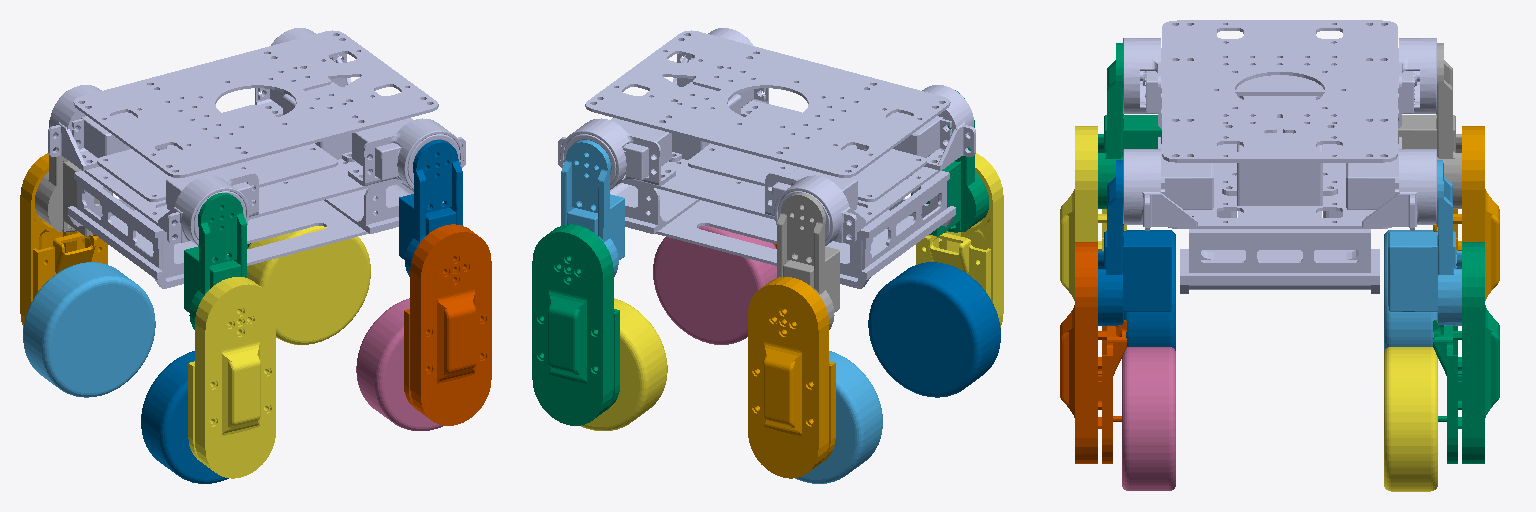
robot.urdf — qwe_dog:
<?xml version="1.0" encoding="utf-8"?>
<robot name="qwe_dog">
  <link name="base_link">
    <inertial>
      <origin xyz="0.03396 0.00484 2.198E-05" rpy="0 0 0" />
      <mass value="0.9" />
      <inertia ixx="0.001371" ixy="0" ixz="0" iyy="0.000667" iyz="0" izz="0.000830" />
    </inertial>
    <visual>
      <origin xyz="0 0 0" rpy="0 0 0" />
      <geometry><mesh filename="package://qwe.SLDASM/meshes/base_link.STL" /></geometry>
      <material name=""><color rgba="0.79 0.81 0.93 1" /></material>
    </visual>
    <collision>
      <origin xyz="0 0 0" rpy="0 0 0" />
      <geometry><mesh filename="package://qwe.SLDASM/meshes/base_link.STL" /></geometry>
    </collision>
  </link>

  <!-- ==================== FRONT LEFT ==================== -->
  <link name="thigh_front_left">
    <inertial><origin xyz="-0.006 -1.9E-06 -0.046" rpy="0 0 0" /><mass value="0.085" /><inertia ixx="4.12E-05" ixy="0" ixz="4.12E-06" iyy="4.12E-05" iyz="0" izz="1.44E-05" /></inertial>
    <visual><origin xyz="0 0 0" rpy="0 0 0" /><geometry><mesh filename="package://qwe.SLDASM/meshes/big_qian_zuo.STL" /></geometry></visual>
    <collision><origin xyz="0 0 0" rpy="0 0 0" /><geometry><mesh filename="package://qwe.SLDASM/meshes/big_qian_zuo.STL" /></geometry></collision>
  </link>
  <joint name="thigh_front_left_joint" type="revolute">
    <origin xyz="0.0762 0.0903 -0.0234" rpy="0 0 -1.5708" />
    <parent link="base_link" /><child link="thigh_front_left" /><axis xyz="-1 0 0" />
    <limit lower="-1.4" upper="1.4" effort="1.27" velocity="6.3" /><dynamics friction="1.0" damping="0.5" />
  </joint>

  <link name="shank_front_left">
    <inertial><origin xyz="-0.007 -0.041 2.4E-06" rpy="0 0 0" /><mass value="0.12" /><inertia ixx="0.000136" ixy="0" ixz="0" iyy="2.47E-05" iyz="0" izz="0.000114" /></inertial>
    <visual><origin xyz="0 0 0" rpy="0 0 0" /><geometry><mesh filename="package://qwe.SLDASM/meshes/small_qian_zuo.STL" /></geometry></visual>
    <collision><origin xyz="0 0 0" rpy="0 0 0" /><geometry><mesh filename="package://qwe.SLDASM/meshes/small_qian_zuo.STL" /></geometry></collision>
  </link>
  <joint name="shank_front_left_joint" type="revolute">
    <origin xyz="-0.023 0 -0.0615" rpy="0 0 0" />
    <parent link="thigh_front_left" /><child link="shank_front_left" /><axis xyz="-1 0 0" />
    <limit lower="-1.57" upper="1.57" effort="1.27" velocity="6.3" /><dynamics friction="1.0" damping="0.5" />
  </joint>

  <link name="wheel_front_left">
    <inertial><origin xyz="-0.015 0 0" rpy="0 0 0" /><mass value="0.14911" /><inertia ixx="0.000118" ixy="0" ixz="0" iyy="7E-05" iyz="0" izz="7E-05" /></inertial>
    <visual><origin xyz="0 0 0" rpy="0 0 0" /><geometry><mesh filename="package://qwe.SLDASM/meshes/last_qian_zuo.STL" /></geometry></visual>
    <collision><origin xyz="0 0 0" rpy="0 0 0" /><geometry><mesh filename="package://qwe.SLDASM/meshes/last_qian_zuo.STL" /></geometry></collision>
  </link>
  <joint name="wheel_front_left_joint" type="continuous">
    <origin xyz="0.056 0 -0.08" rpy="1.42873540434818 0 0" />
    <parent link="shank_front_left" /><child link="wheel_front_left" /><axis xyz="-1 0 0" />
    <limit effort="1.27" velocity="6.3" /><dynamics friction="5.0" damping="0.5" />
  </joint>

  <!-- ==================== FRONT RIGHT ==================== -->
  <link name="thigh_front_right">
    <inertial><origin xyz="-0.006 -1.9E-06 -0.046" rpy="0 0 0" /><mass value="0.085" /><inertia ixx="4.12E-05" ixy="0" ixz="4.12E-06" iyy="4.12E-05" iyz="0" izz="1.44E-05" /></inertial>
    <visual><origin xyz="0 0 0" rpy="0 0 0" /><geometry><mesh filename="package://qwe.SLDASM/meshes/big_qian_you.STL" /></geometry></visual>
    <collision><origin xyz="0 0 0" rpy="0 0 0" /><geometry><mesh filename="package://qwe.SLDASM/meshes/big_qian_you.STL" /></geometry></collision>
  </link>
  <joint name="thigh_front_right_joint" type="revolute">
    <origin xyz="0.0762 -0.0903 -0.0234" rpy="0 0 -1.5708" />
    <parent link="base_link" /><child link="thigh_front_right" /><axis xyz="-1 0 0" />
    <limit lower="-1.4" upper="1.4" effort="1.27" velocity="6.3" /><dynamics friction="1.0" damping="0.5" />
  </joint>

  <link name="shank_front_right">
    <inertial><origin xyz="-0.007 -2.2E-06 -0.041" rpy="0 0 0" /><mass value="0.12" /><inertia ixx="0.000136" ixy="0" ixz="2.3E-06" iyy="0.000114" iyz="0" izz="2.47E-05" /></inertial>
    <visual><origin xyz="0 0 0" rpy="0 0 0" /><geometry><mesh filename="package://qwe.SLDASM/meshes/small_qian_you.STL" /></geometry></visual>
    <collision><origin xyz="0 0 0" rpy="0 0 0" /><geometry><mesh filename="package://qwe.SLDASM/meshes/small_qian_you.STL" /></geometry></collision>
  </link>
  <joint name="shank_front_right_joint" type="revolute">
    <origin xyz="0.023 0 -0.0615" rpy="0 0 0" />
    <parent link="thigh_front_right" /><child link="shank_front_right" /><axis xyz="-1 0 0" />
    <limit lower="-1.57" upper="1.57" effort="1.27" velocity="6.3" /><dynamics friction="1.0" damping="0.5" />
  </joint>

  <link name="wheel_front_right">
    <inertial><origin xyz="-0.015 0 0" rpy="0 0 0" /><mass value="0.1491" /><inertia ixx="0.000118" ixy="0" ixz="0" iyy="7E-05" iyz="0" izz="7E-05" /></inertial>
    <visual><origin xyz="0 0 0" rpy="0 0 0" /><geometry><mesh filename="package://qwe.SLDASM/meshes/last_qian_you.STL" /></geometry></visual>
    <collision><origin xyz="0 0 0" rpy="0 0 0" /><geometry><mesh filename="package://qwe.SLDASM/meshes/last_qian_you.STL" /></geometry></collision>
  </link>
  <joint name="wheel_front_right_joint" type="continuous">
    <origin xyz="-0.056 0 -0.08" rpy="1.79798018624836 0 3.14159265358977" />
    <parent link="shank_front_right" /><child link="wheel_front_right" /><axis xyz="-1 0 0" />
    <limit effort="1.27" velocity="6.3" /><dynamics friction="5.0" damping="0.5" />
  </joint>

  <!-- ==================== REAR LEFT ==================== -->
  <link name="thigh_rear_left">
    <inertial><origin xyz="-0.006 -1.9E-06 -0.046" rpy="0 0 0" /><mass value="0.085" /><inertia ixx="4.12E-05" ixy="0" ixz="4.12E-06" iyy="4.12E-05" iyz="0" izz="1.44E-05" /></inertial>
    <visual><origin xyz="0 0 0" rpy="0 0 0" /><geometry><mesh filename="package://qwe.SLDASM/meshes/big_hou_zuo.STL" /></geometry></visual>
    <collision><origin xyz="0 0 0" rpy="0 0 0" /><geometry><mesh filename="package://qwe.SLDASM/meshes/big_hou_zuo.STL" /></geometry></collision>
  </link>
  <joint name="thigh_rear_left_joint" type="revolute">
    <origin xyz="-0.0762 0.0903 -0.0234" rpy="0 0 -1.5708" />
    <parent link="base_link" /><child link="thigh_rear_left" /><axis xyz="-1 0 0" />
    <limit lower="-1.4" upper="1.4" effort="1.27" velocity="6.3" /><dynamics friction="1.0" damping="0.5" />
  </joint>

  <link name="shank_rear_left">
    <inertial><origin xyz="-0.007 -2.3E-06 -0.041" rpy="0 0 0" /><mass value="0.12" /><inertia ixx="0.000136" ixy="0" ixz="2.3E-06" iyy="0.000114" iyz="0" izz="2.47E-05" /></inertial>
    <visual><origin xyz="0 0 0" rpy="0 0 0" /><geometry><mesh filename="package://qwe.SLDASM/meshes/small_hou_zuo.STL" /></geometry></visual>
    <collision><origin xyz="0 0 0" rpy="0 0 0" /><geometry><mesh filename="package://qwe.SLDASM/meshes/small_hou_zuo.STL" /></geometry></collision>
  </link>
  <joint name="shank_rear_left_joint" type="revolute">
    <origin xyz="-0.023 0 -0.0615" rpy="0 0 0" />
    <parent link="thigh_rear_left" /><child link="shank_rear_left" /><axis xyz="-1 0 0" />
    <limit lower="-1.57" upper="1.57" effort="1.27" velocity="6.3" /><dynamics friction="1.0" damping="0.5" />
  </joint>

  <link name="wheel_rear_left">
    <inertial><origin xyz="-0.015 0 0" rpy="0 0 0" /><mass value="0.1491" /><inertia ixx="0.000118" ixy="0" ixz="0" iyy="7E-05" iyz="0" izz="7E-05" /></inertial>
    <visual><origin xyz="0 0 0" rpy="0 0 0" /><geometry><mesh filename="package://qwe.SLDASM/meshes/last_hou_zuo.STL" /></geometry></visual>
    <collision><origin xyz="0 0 0" rpy="0 0 0" /><geometry><mesh filename="package://qwe.SLDASM/meshes/last_hou_zuo.STL" /></geometry></collision>
  </link>
  <joint name="wheel_rear_left_joint" type="continuous">
    <origin xyz="0.056 0 -0.08" rpy="1.430547240631 0 0" />
    <parent link="shank_rear_left" /><child link="wheel_rear_left" /><axis xyz="-1 0 0" />
    <limit effort="1.27" velocity="6.3" /><dynamics friction="5.0" damping="0.5" />
  </joint>

  <!-- ==================== REAR RIGHT ==================== -->
  <link name="thigh_rear_right">
    <inertial><origin xyz="-0.006 -1.9E-06 -0.046" rpy="0 0 0" /><mass value="0.085" /><inertia ixx="4.12E-05" ixy="0" ixz="4.12E-06" iyy="4.12E-05" iyz="0" izz="1.44E-05" /></inertial>
    <visual><origin xyz="0 0 0" rpy="0 0 0" /><geometry><mesh filename="package://qwe.SLDASM/meshes/big_hou_you.STL" /></geometry></visual>
    <collision><origin xyz="0 0 0" rpy="0 0 0" /><geometry><mesh filename="package://qwe.SLDASM/meshes/big_hou_you.STL" /></geometry></collision>
  </link>
  <joint name="thigh_rear_right_joint" type="revolute">
    <origin xyz="-0.0762 -0.0903 -0.0234" rpy="0 0 -1.5708" />
    <parent link="base_link" /><child link="thigh_rear_right" /><axis xyz="-1 0 0" />
    <limit lower="-1.4" upper="1.4" effort="1.27" velocity="6.3" /><dynamics friction="1.0" damping="0.5" />
  </joint>

  <link name="shank_rear_right">
    <inertial><origin xyz="-0.007 -0.041 -9.7E-07" rpy="0 0 0" /><mass value="0.12" /><inertia ixx="0.000139" ixy="2.3E-06" ixz="0" iyy="2.51E-05" iyz="0" izz="0.000116" /></inertial>
    <visual><origin xyz="0 0 0" rpy="0 0 0" /><geometry><mesh filename="package://qwe.SLDASM/meshes/small_hou_you.STL" /></geometry></visual>
    <collision><origin xyz="0 0 0" rpy="0 0 0" /><geometry><mesh filename="package://qwe.SLDASM/meshes/small_hou_you.STL" /></geometry></collision>
  </link>
  <joint name="shank_rear_right_joint" type="revolute">
    <origin xyz="0.023 0 -0.0615" rpy="0 0 0" />
    <parent link="thigh_rear_right" /><child link="shank_rear_right" /><axis xyz="-1 0 0" />
    <limit lower="-1.57" upper="1.57" effort="1.27" velocity="6.3" /><dynamics friction="1.0" damping="0.5" />
  </joint>

  <link name="wheel_rear_right">
    <inertial><origin xyz="-0.015 0 0" rpy="0 0 0" /><mass value="0.1491" /><inertia ixx="0.000118" ixy="0" ixz="0" iyy="7E-05" iyz="0" izz="7E-05" /></inertial>
    <visual><origin xyz="0 0 0" rpy="0 0 0" /><geometry><mesh filename="package://qwe.SLDASM/meshes/last_hou_you.STL" /></geometry></visual>
    <collision><origin xyz="0 0 0" rpy="0 0 0" /><geometry><mesh filename="package://qwe.SLDASM/meshes/last_hou_you.STL" /></geometry></collision>
  </link>
  <joint name="wheel_rear_right_joint" type="continuous">
    <origin xyz="-0.056 0 -0.08" rpy="1.94377525314493 0 3.14159265358977" />
    <parent link="shank_rear_right" /><child link="wheel_rear_right" /><axis xyz="-1 0 0" />
    <limit effort="1.27" velocity="6.3" /><dynamics friction="5.0" damping="0.5" />
  </joint>
</robot>

--- What the picture shows (computed from the rendered views, not written in the file) ---
3 views of the same robot in one strip: view 1: azimuth 30°, elevation 25°; view 2: azimuth 150°, elevation 25°; view 3: azimuth 270°, elevation 25° (orthographic).
Robot: qwe_dog — 13 links, 12 joints (8 revolute, 4 continuous); root link base_link; default pose: all joints at 0.
Links seen in each view (by area): view 1: base_link, shank_front_right, shank_rear_right, wheel_rear_left, wheel_front_left, shank_rear_left, thigh_front_right, thigh_rear_right, wheel_front_right, wheel_rear_right, thigh_rear_left; view 2: base_link, shank_front_left, shank_rear_left, wheel_rear_right, wheel_front_right, shank_rear_right, thigh_front_left, thigh_rear_left, wheel_front_left, wheel_rear_left, thigh_rear_right; view 3: base_link, shank_front_left, shank_front_right, wheel_front_left, wheel_front_right, thigh_front_right, thigh_front_left, shank_rear_left, shank_rear_right, thigh_rear_left, thigh_rear_right, wheel_rear_left (+1 smaller).
Link boxes in pixels (x1,y1,x2,y2): base_link: [48, 28, 465, 288]; shank_front_right: [404, 224, 491, 425]; shank_rear_right: [188, 277, 275, 478]; wheel_rear_left: [23, 262, 155, 397]; wheel_front_left: [247, 226, 370, 344]; shank_rear_left: [20, 153, 107, 327]; thigh_front_right: [399, 140, 462, 276]; thigh_rear_right: [184, 193, 246, 329]; wheel_front_right: [356, 298, 442, 430]; wheel_rear_right: [141, 351, 228, 483]; thigh_rear_left: [35, 90, 112, 236]; base_link: [558, 28, 975, 288]; shank_front_left: [532, 224, 619, 425]; shank_rear_left: [748, 277, 835, 478]; wheel_rear_right: [868, 262, 1000, 397]; wheel_front_right: [653, 226, 776, 344]; shank_rear_right: [916, 153, 1003, 327]; thigh_front_left: [561, 140, 624, 276]; thigh_rear_left: [777, 193, 839, 329]; wheel_front_left: [581, 298, 667, 430]; wheel_rear_left: [795, 351, 882, 483]; thigh_rear_right: [911, 90, 988, 236]; base_link: [1123, 20, 1436, 293]; shank_front_left: [1433, 242, 1499, 463]; shank_front_right: [1060, 242, 1126, 463]; wheel_front_left: [1384, 347, 1437, 491]; wheel_front_right: [1122, 347, 1175, 490]; thigh_front_right: [1098, 160, 1171, 325]; thigh_front_left: [1388, 160, 1461, 325]; shank_rear_left: [1433, 126, 1499, 300]; shank_rear_right: [1060, 126, 1126, 300]; thigh_rear_left: [1398, 43, 1461, 208]; thigh_rear_right: [1098, 43, 1161, 208]; wheel_rear_left: [1384, 230, 1436, 350].
Size in the robot's own frame: 0.2323 by 0.2426 by 0.2069 metres.
Meshes: 13 distinct files referenced, 13 mesh visuals loaded (13 binary STL).
